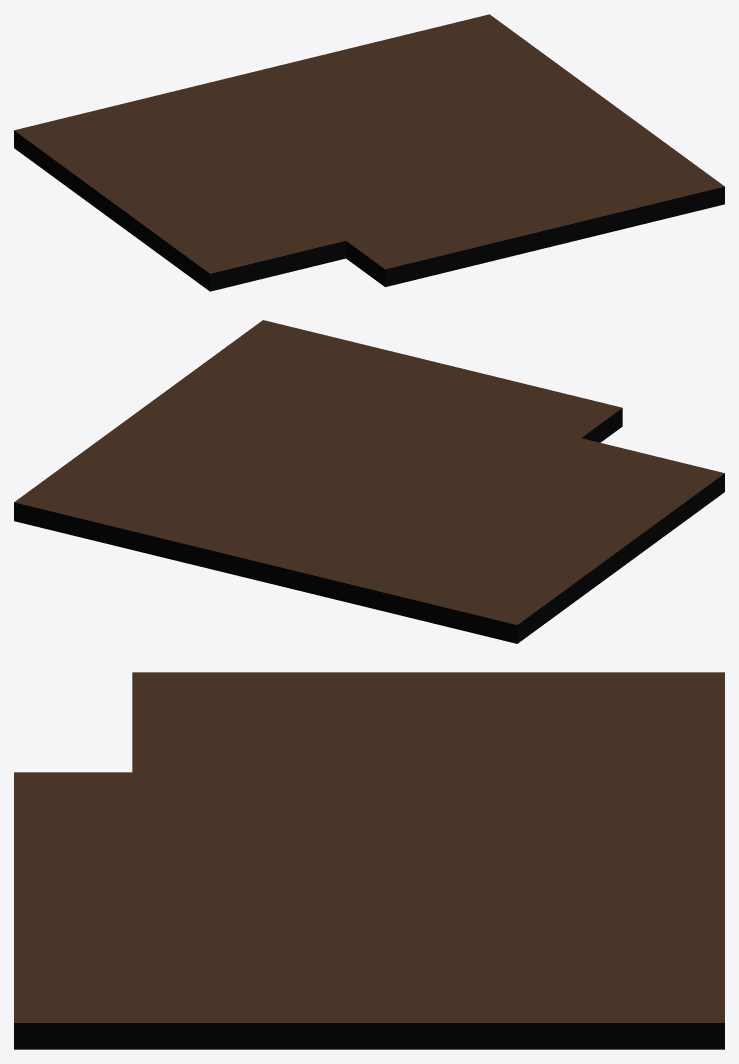
File: Floor_Room_4.fbx
The picture shows the model from 3 angles, top to bottom: view 1: azimuth 30°, elevation 25°; view 2: azimuth 150°, elevation 25°; view 3: azimuth 270°, elevation 25°; orthographic projection. The views are drawn at different scales.
Parts seen in each view (by area): view 1: Floor_Room_4; view 2: Floor_Room_4; view 3: Floor_Room_4.
Boxes of the visible parts, left/top/right/bottom form: Floor_Room_4: left=14, top=14, right=724, bottom=291; Floor_Room_4: left=14, top=320, right=724, bottom=643; Floor_Room_4: left=14, top=672, right=724, bottom=1049.
Bounding box in the file's own units: 6 × 7 × 0.25.
